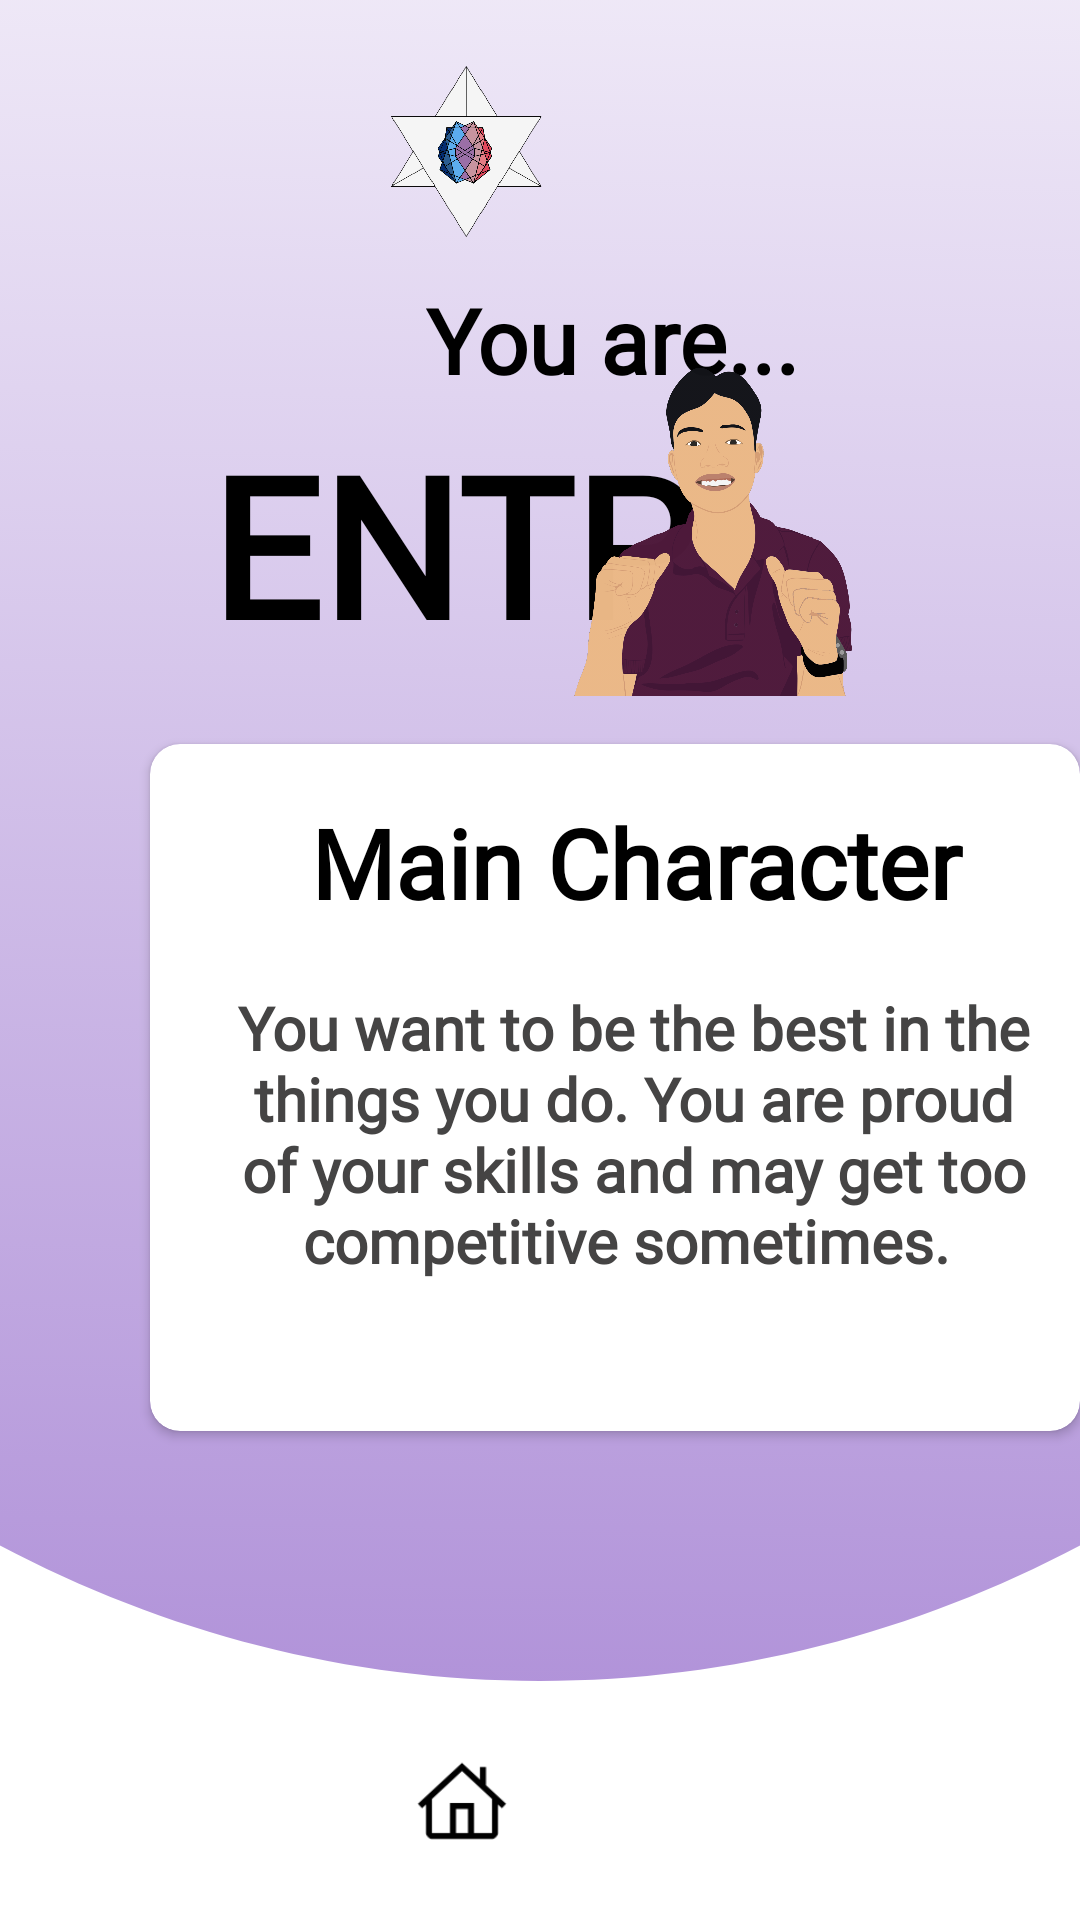

Icon bounding boxes for this 1080 × 1920 phone screenshot, format {"x1": x1, "y1": y1, "x2": x2, "y2": y2}:
homeicon: {"x1": 417, "y1": 1762, "x2": 507, "y2": 1840}
